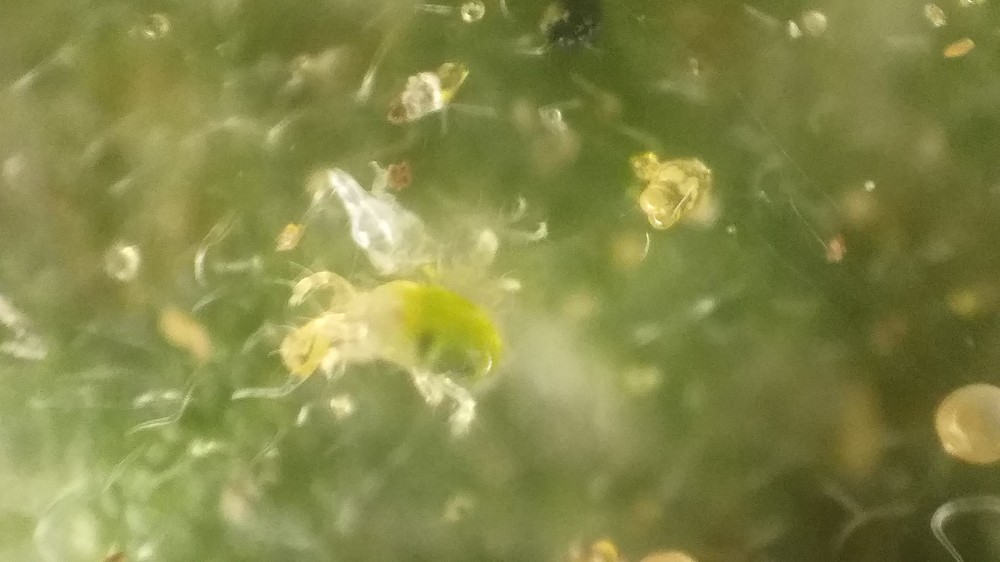Aracnido Rojo: (270, 248, 534, 434)
